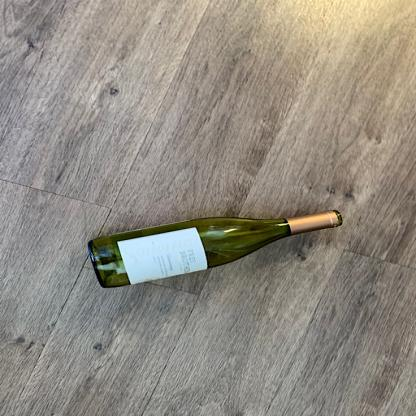trash: (88, 209, 344, 289)
